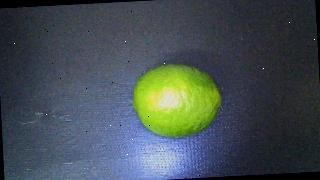EXPORTACION: (131, 61, 223, 139)
